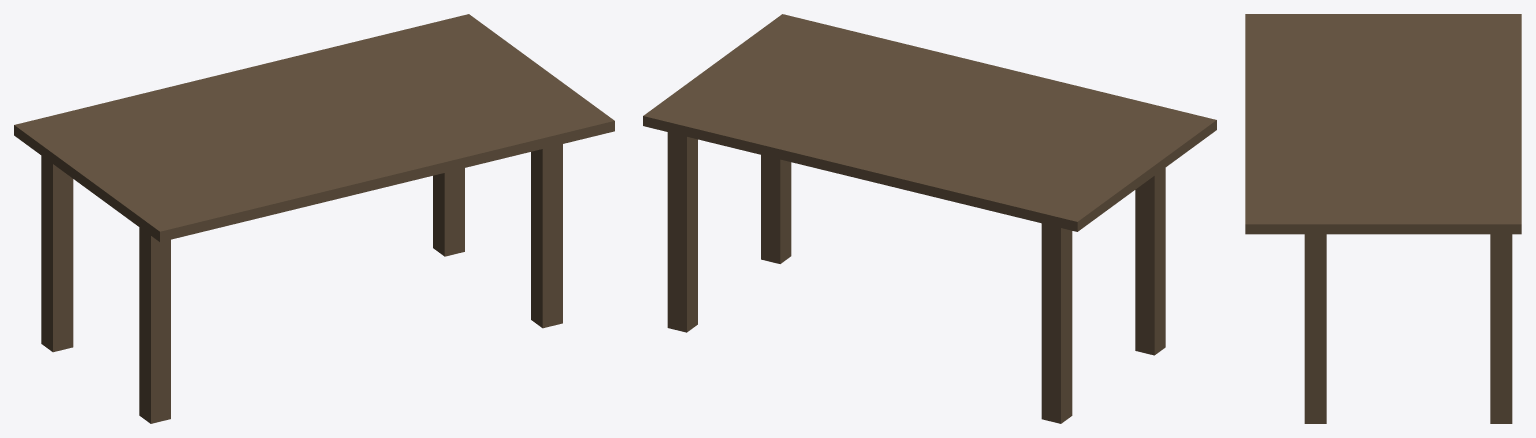
File: Mesa.fbx
The picture shows the model from 3 angles, left to right: view 1: azimuth 30°, elevation 25°; view 2: azimuth 150°, elevation 25°; view 3: azimuth 270°, elevation 25°; orthographic projection. The views are drawn at different scales.
Visible parts, largest first — view 1: Mesa; view 2: Mesa; view 3: Mesa.
Boxes of the visible parts, x1,y1,x2,y2 form: Mesa: (14,14,614,423); Mesa: (643,14,1216,423); Mesa: (1245,14,1521,423).
Bounding box in the file's own units: 0.045 × 0.0209 × 0.025.
